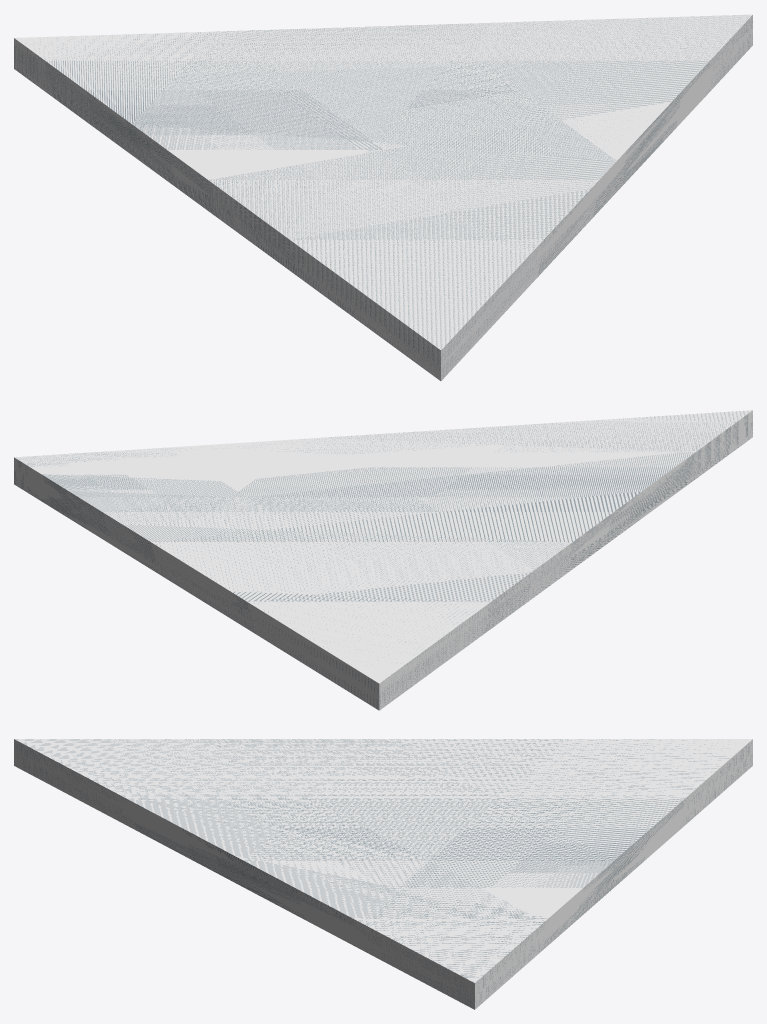
File: triangle 52 deg.fbx
3 views of the same model, one above another, from view 1: azimuth 30°, elevation 25°; view 2: azimuth 150°, elevation 25°; view 3: azimuth 270°, elevation 25° (orthographic). The views are drawn at different scales.
Parts seen in each view (by area): view 1: Model; view 2: Model; view 3: Model.
Part boxes in pixels (x1,y1,x2,y2): Model: [14, 14, 752, 380]; Model: [14, 410, 752, 710]; Model: [14, 739, 752, 1009].
Size of the model in its own units: 3.91 by 0.2 by 5.
